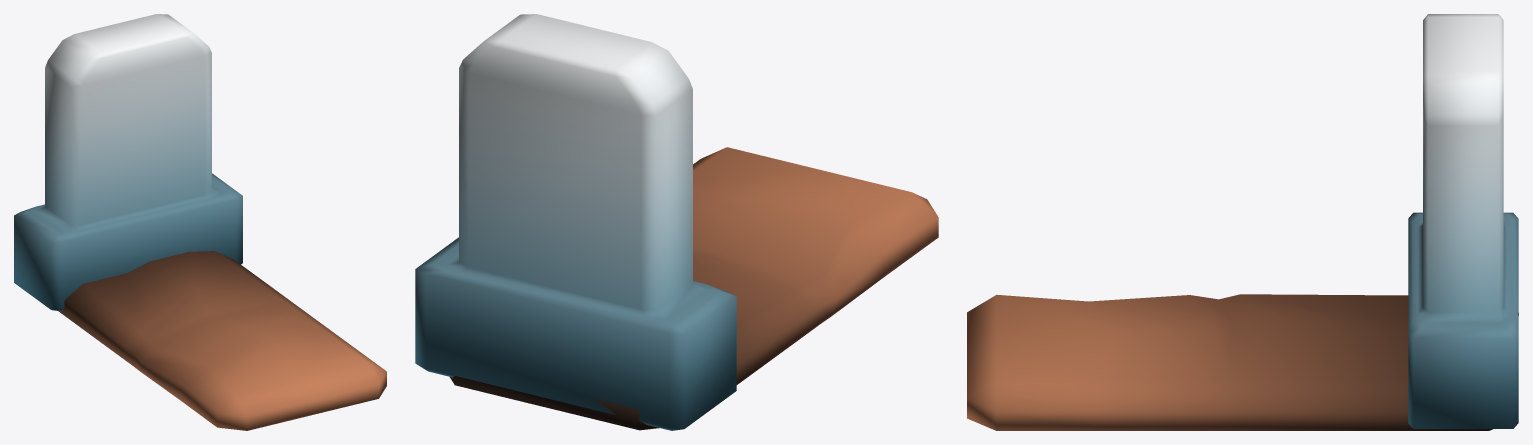
The model's file is Grave_w_Dirt.fbx.
3 views of the same model, side by side, from view 1: azimuth 30°, elevation 25°; view 2: azimuth 150°, elevation 25°; view 3: azimuth 270°, elevation 25° (orthographic). The views are drawn at different scales.
Parts seen in each view (by area): view 1: Grave_w_DirtMesh; view 2: Grave_w_DirtMesh; view 3: Grave_w_DirtMesh.
Boxes of the visible parts, x1,y1,x2,y2 form: Grave_w_DirtMesh: (14,14,386,430); Grave_w_DirtMesh: (415,14,938,430); Grave_w_DirtMesh: (967,14,1518,430).
Bounding box in the file's own units: 270 × 335 × 500.
